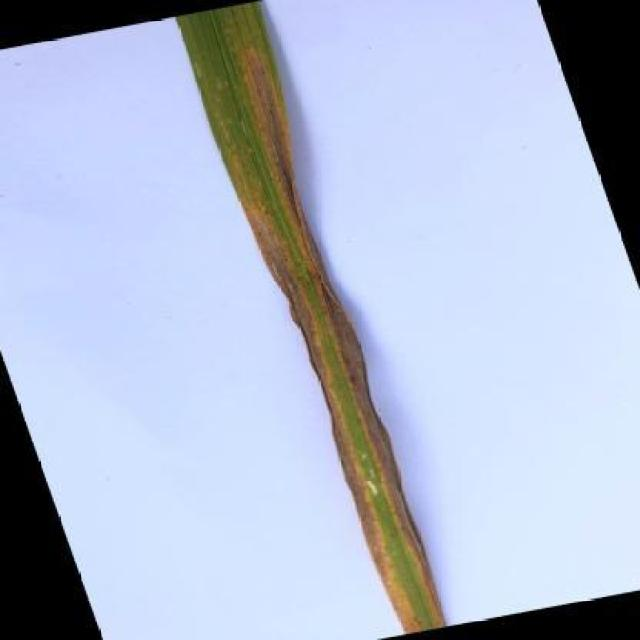Rice False Smut: (178, 5, 444, 632)
